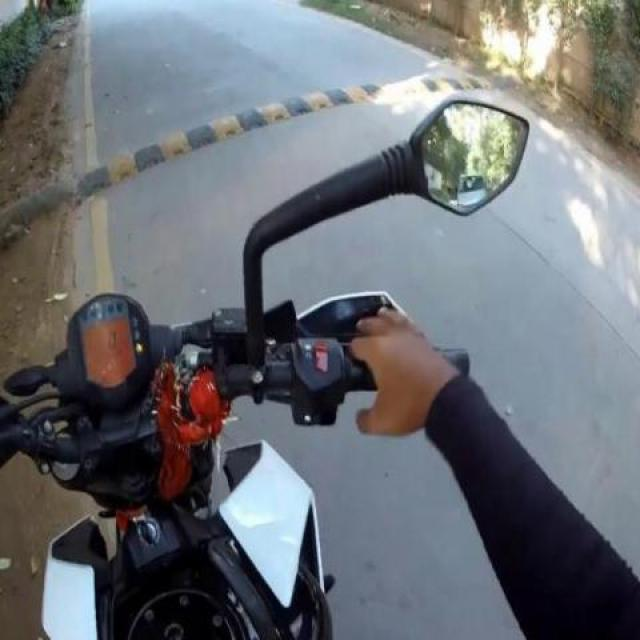Speed Bump: (75, 72, 502, 204)
